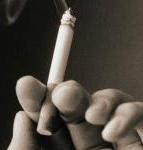smoke: (36, 8, 77, 136)
